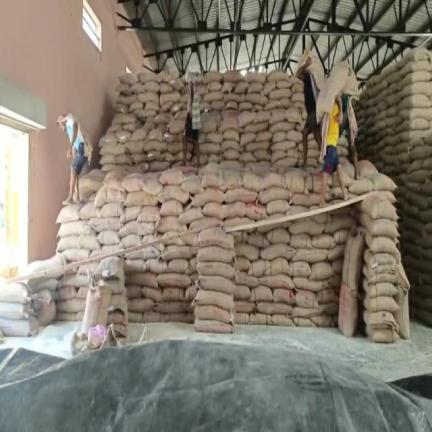Zone-Counting: (316, 63, 350, 181), (296, 52, 324, 166)
